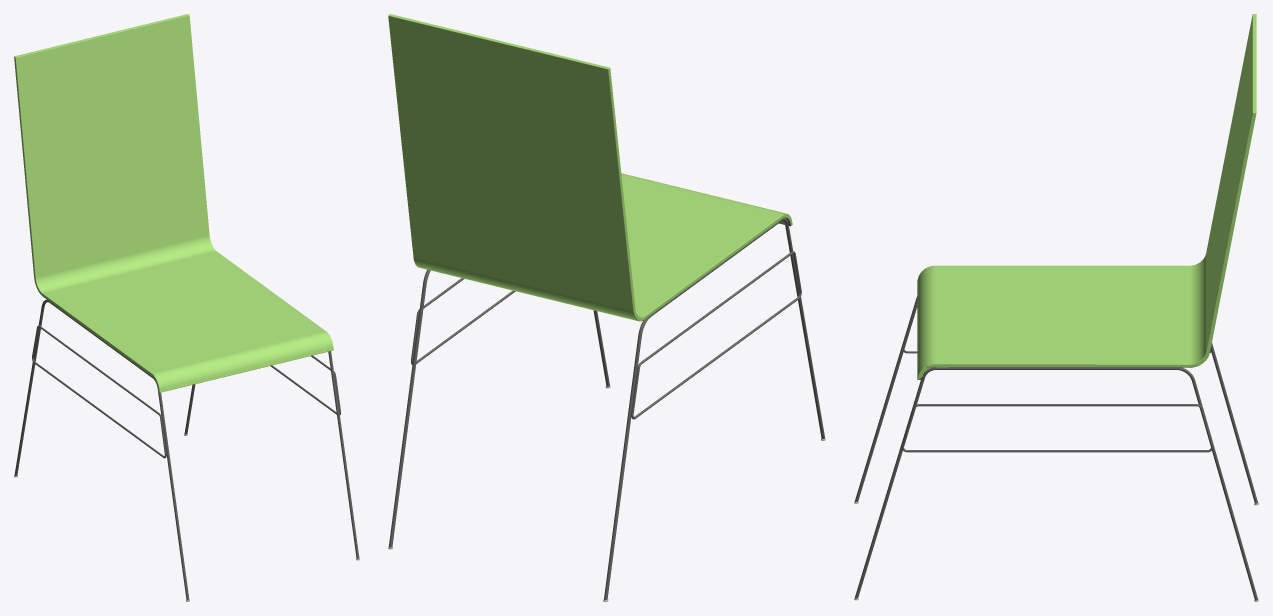
Rendered from GreenChair.fbx.
3 views of the same model, side by side, from view 1: azimuth 30°, elevation 25°; view 2: azimuth 150°, elevation 25°; view 3: azimuth 270°, elevation 25° (orthographic). The views are drawn at different scales.
Parts seen in each view (by area): view 1: CCR6SE_stuhl2.001; view 2: CCR6SE_stuhl2.001; view 3: CCR6SE_stuhl2.001.
Part boxes in pixels (bbox=[...]): CCR6SE_stuhl2.001: bbox=[14, 14, 359, 601]; CCR6SE_stuhl2.001: bbox=[388, 14, 825, 601]; CCR6SE_stuhl2.001: bbox=[854, 14, 1258, 601].
Size of the model in its own units: 52.84 by 121 by 90.48.
